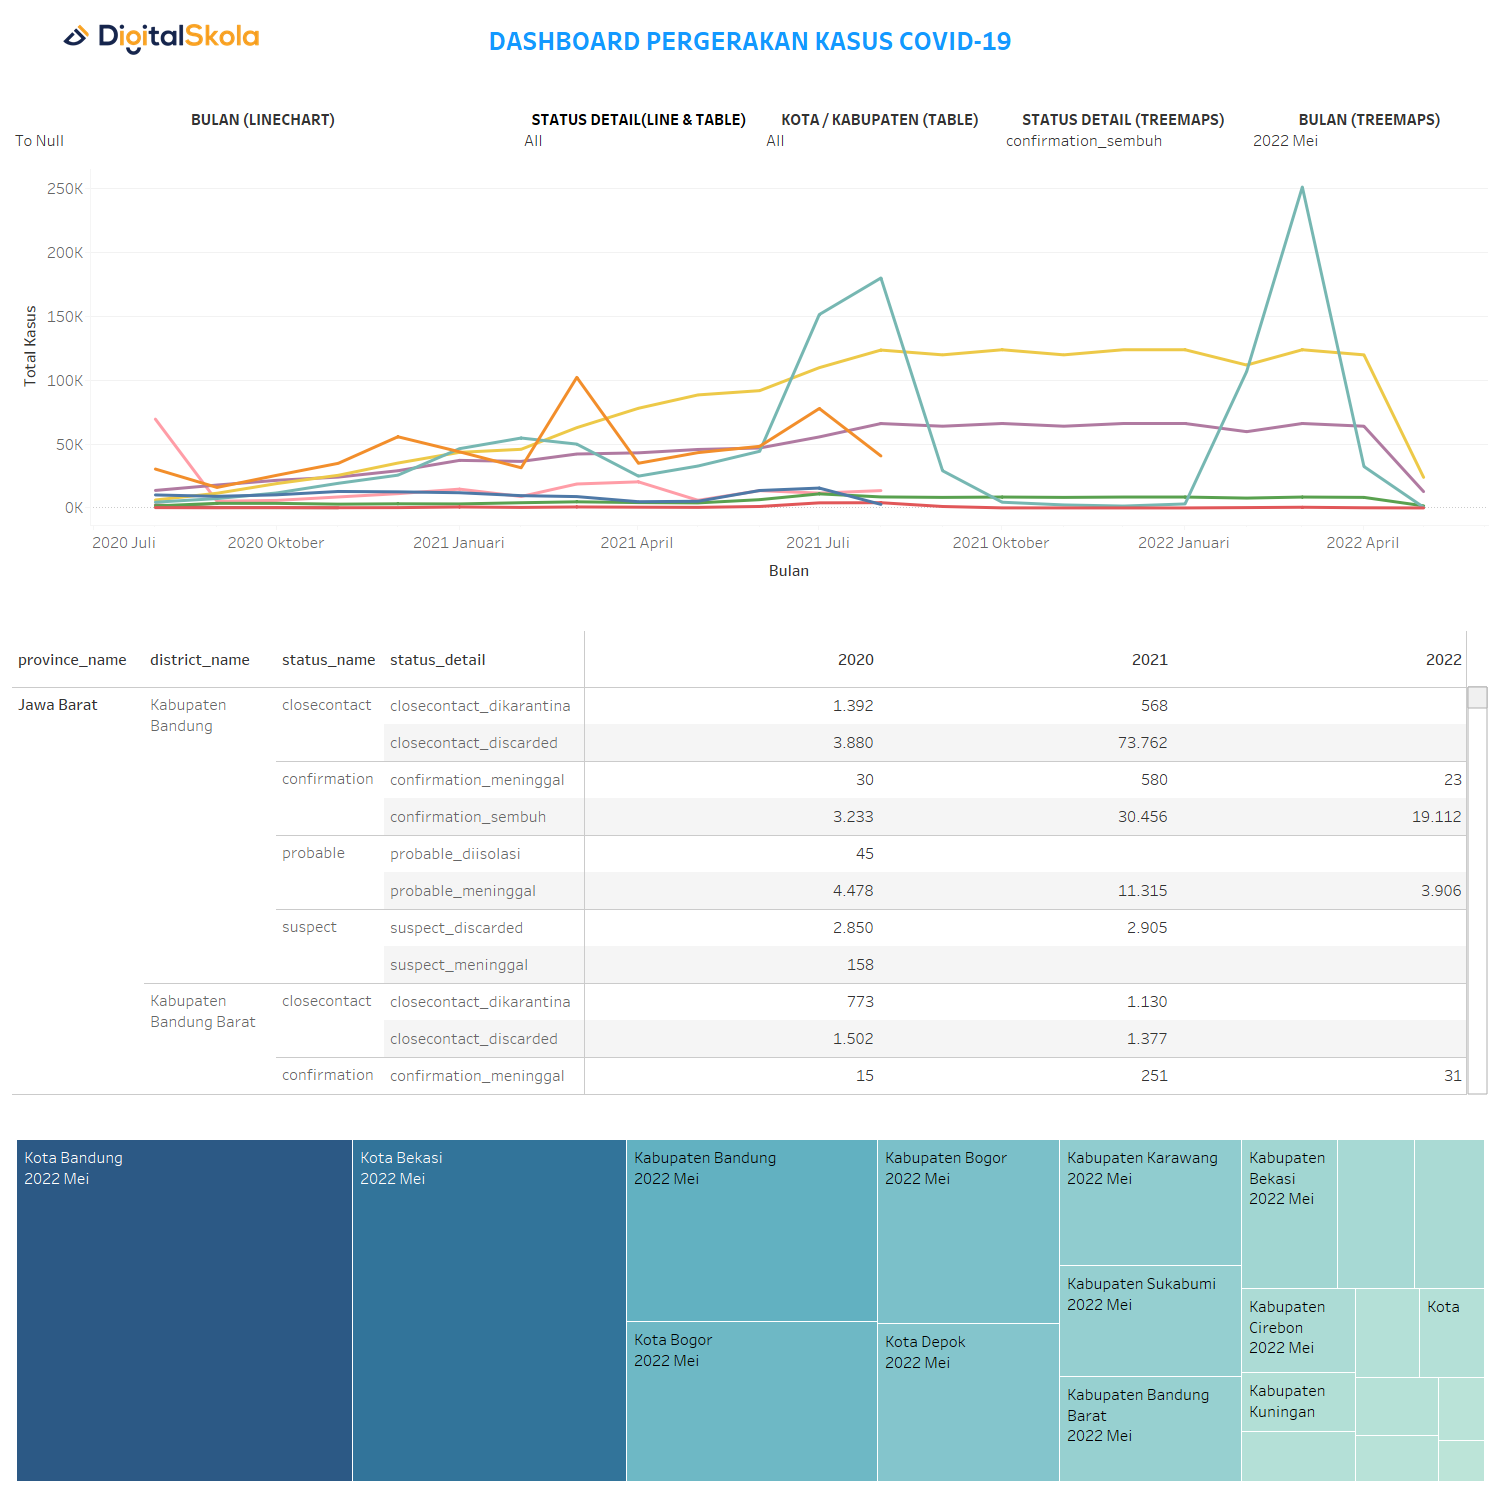

The dashboard page shown, as its layout file describes it:
{"tool":"tableau","page":{"name":"Covid-19","canvas":[1500,1500],"ordinal":0},"visuals":[{"type":"text","box":[8,8,1484,64]},{"type":"image","param":"Image/PNG_WORDMARK LOGO WHITE.png","box":[18,11,286,54]},{"type":"blank","box":[8,72,1484,32]},{"type":"filter","title":"line","param":"[federated.1kez4zw1nfnzkf19610o90kzu5nt].[tmn:tanggal:qk]","box":[8,104,510,61]},{"type":"filter","title":"table","param":"[federated.1kez4zw1nfnzkf19610o90kzu5nt].[none:status_detail:nk]","box":[518,104,242,61]},{"type":"filter","title":"table","param":"[federated.1kez4zw1nfnzkf19610o90kzu5nt].[none:district_name:nk]","box":[760,104,240,61]},{"type":"filter","title":"treemaps","param":"[federated.1kez4zw1nfnzkf19610o90kzu5nt].[none:status_detail:nk]","box":[1000,104,247,61]},{"type":"filter","title":"treemaps","param":"[federated.1kez4zw1nfnzkf19610o90kzu5nt].[tmn:tanggal:ok]","box":[1247,104,245,61]},{"type":"worksheet","title":"line","mark":"Automatic","rows":["total"],"cols":["tanggal"],"box":[8,165,1484,427]},{"type":"blank","box":[8,592,1484,35]},{"type":"worksheet","title":"table","mark":"Automatic","rows":["province_name","district_name","status_name","status_detail"],"cols":["tanggal"],"box":[8,627,1484,472]},{"type":"blank","box":[8,1099,1484,32]},{"type":"worksheet","title":"treemaps","mark":"Automatic","box":[8,1131,1484,358]}]}

Visuals, with their boxes in screenshot pixels (x1, y1, x2, y2), scaled from the page's 1500x1500 canvas onto the 1500x1500 screenshot:
text: (8,8,1492,72)
image: (18,11,304,65)
blank: (8,72,1492,104)
"line" filter: (8,104,518,165)
"table" filter: (518,104,760,165)
"table" filter: (760,104,1000,165)
"treemaps" filter: (1000,104,1247,165)
"treemaps" filter: (1247,104,1492,165)
"line" worksheet: (8,165,1492,592)
blank: (8,592,1492,627)
"table" worksheet: (8,627,1492,1099)
blank: (8,1099,1492,1131)
"treemaps" worksheet: (8,1131,1492,1489)
